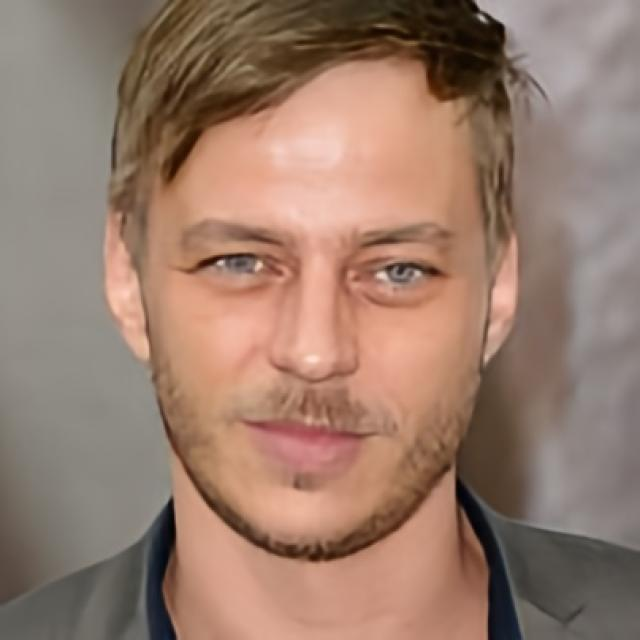content: (144, 54, 486, 552)
